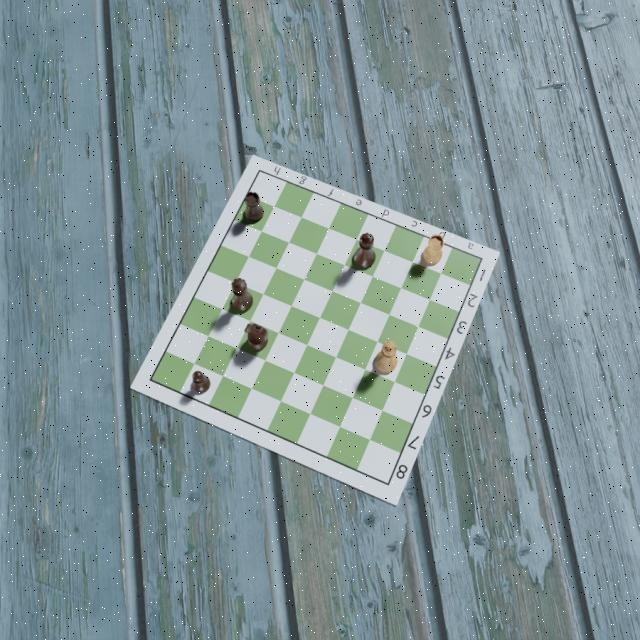black-king: (351, 231, 376, 272)
black-knight: (242, 322, 270, 354)
black-pawn: (190, 369, 214, 394)
black-queen: (231, 278, 254, 314)
black-rook: (244, 190, 264, 225)
white-king: (372, 338, 398, 377)
white-rook: (420, 234, 444, 266)
